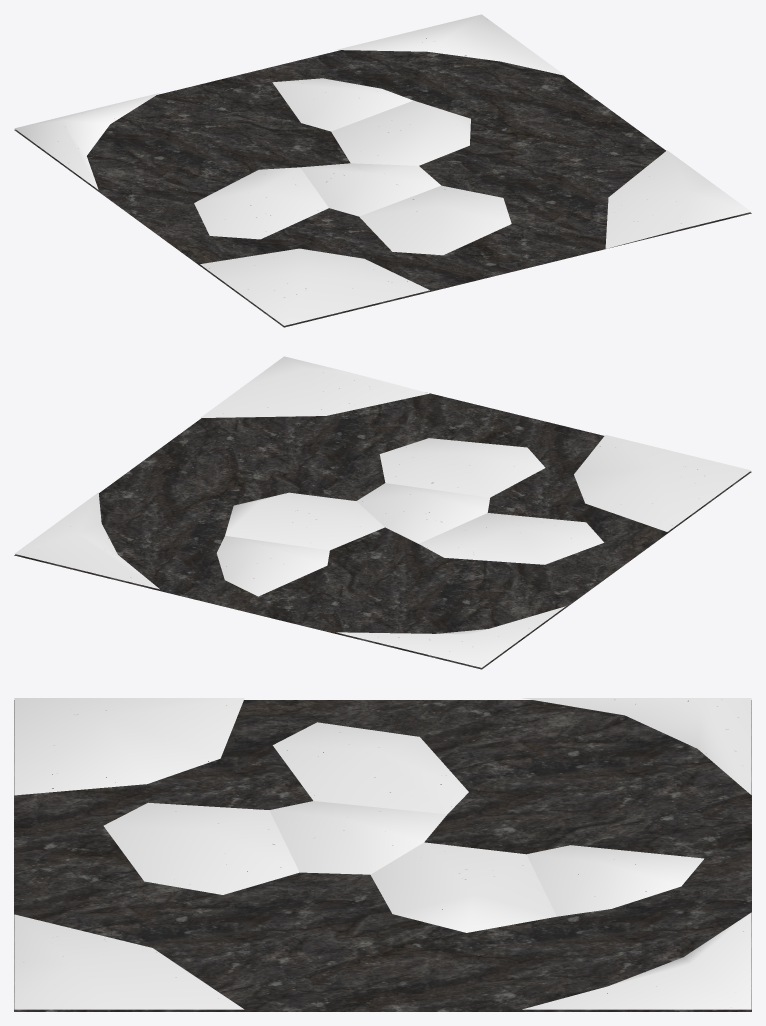
Rendered from Garden_08_Art.glb.
3 renders of one model, top to bottom at view 1: azimuth 30°, elevation 25°; view 2: azimuth 150°, elevation 25°; view 3: azimuth 270°, elevation 25°, orthographic. The views are drawn at different scales.
Parts seen in each view (by area): view 1: Garden_08_Art; view 2: Garden_08_Art; view 3: Garden_08_Art.
Boxes of the visible parts, bbox=[...] form: Garden_08_Art: bbox=[14, 14, 751, 327]; Garden_08_Art: bbox=[14, 356, 751, 669]; Garden_08_Art: bbox=[14, 698, 751, 1011].
Size of the model in its own units: 15.98 by 0.5007 by 15.98.
Materials: 2 (2 with a texture image).
